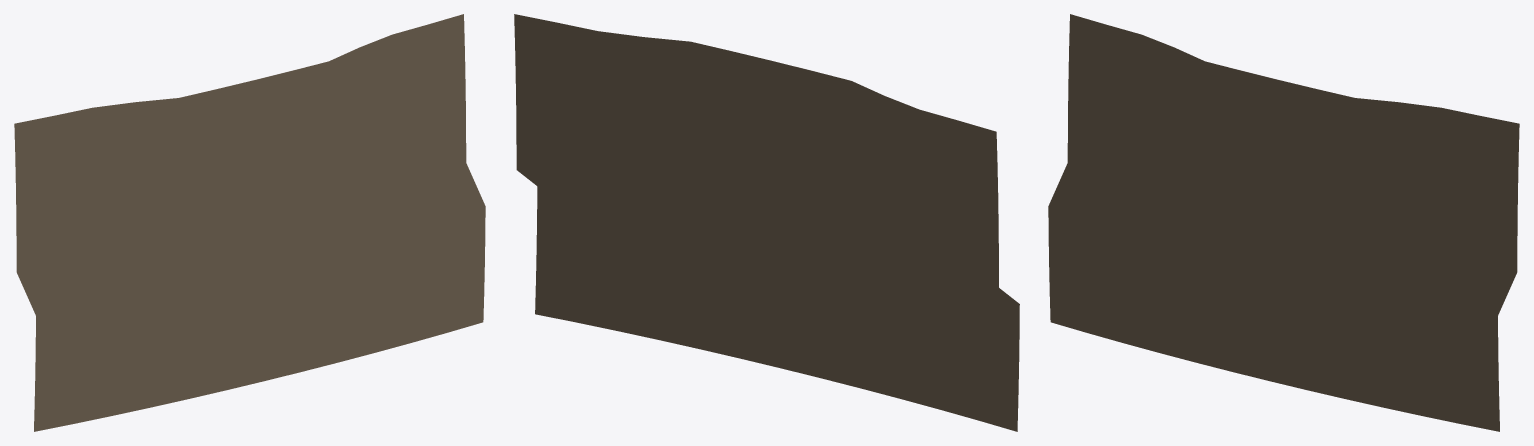
Rendered from goatee.glb.
3 views of the same model, side by side, from view 1: azimuth 30°, elevation 25°; view 2: azimuth 150°, elevation 25°; view 3: azimuth 330°, elevation 25° (orthographic). The views are drawn at different scales.
Visible parts, largest first — view 1: facial-hair_goatee; view 2: facial-hair_goatee; view 3: facial-hair_goatee.
Part boxes in pixels (x1,y1,x2,y2): facial-hair_goatee: [14, 14, 485, 431]; facial-hair_goatee: [514, 14, 1019, 431]; facial-hair_goatee: [1048, 14, 1519, 431].
Bounding box in the file's own units: 0.4 × 0.25 × 0.0417.
